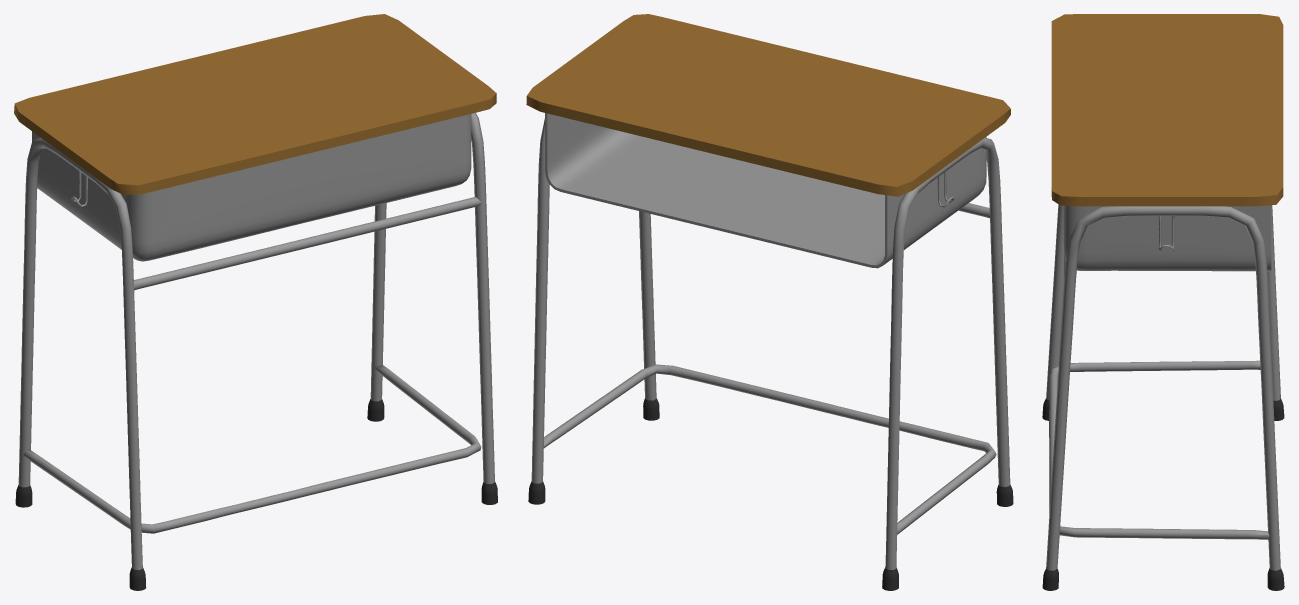
The model's file is desk_light.glb.
3 views of the same model, side by side, from view 1: azimuth 30°, elevation 25°; view 2: azimuth 150°, elevation 25°; view 3: azimuth 270°, elevation 25° (orthographic).
Parts seen in each view (by area): view 1: オブジェクト_136; view 2: オブジェクト_136; view 3: オブジェクト_136.
Part boxes in pixels (bbox=[...]): オブジェクト_136: bbox=[14, 14, 497, 590]; オブジェクト_136: bbox=[526, 14, 1013, 590]; オブジェクト_136: bbox=[1042, 14, 1284, 590].
Size of the model in its own units: 0.72 by 0.729 by 0.403.
